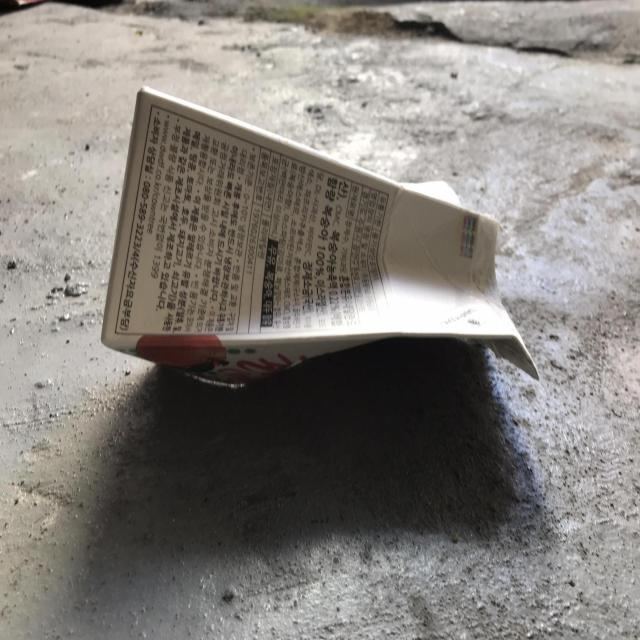paperpack: (101, 86, 539, 384)
